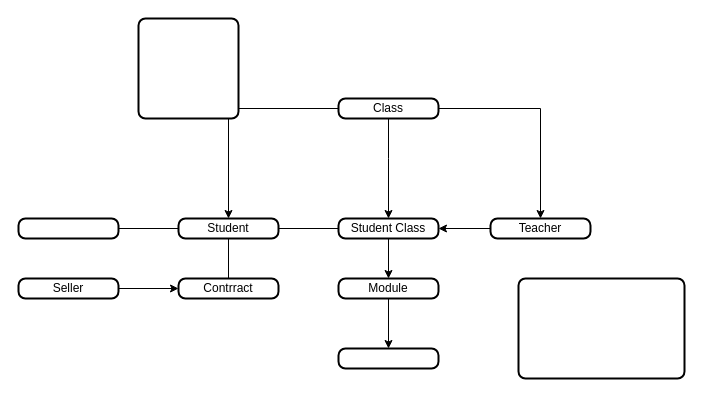
Image size: 702x396. Some labels were removed from this diagram. The box of each missing label's shape, as (x1, y1, x2, y2) in pixels:
A course can have serveral modules, but one module belongs one course: (517, 277, 685, 379)
Course: (337, 347, 439, 369)
Spouse: (17, 217, 119, 239)
Student Presence (maybe an automatic table here): (137, 17, 239, 119)
